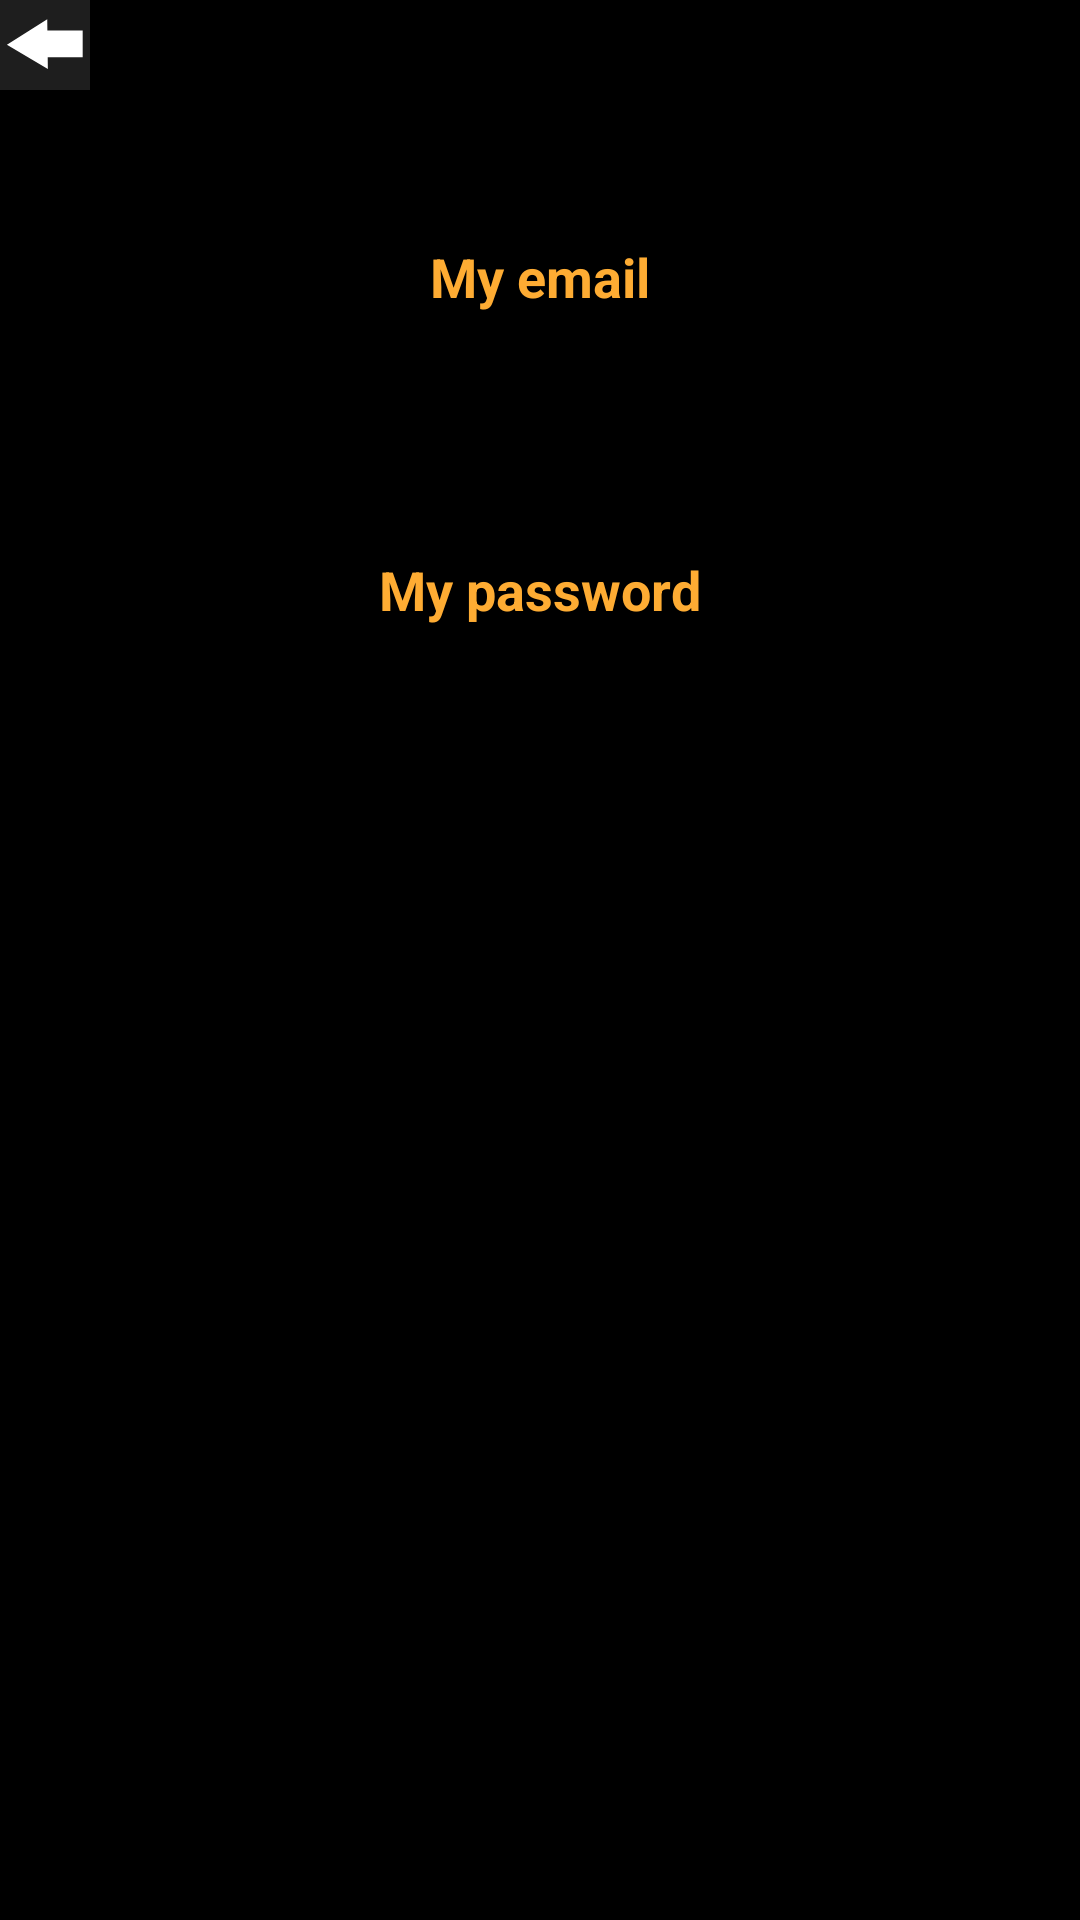

Icon bounding boxes for this 1080 × 1920 phone screenshot, format region(x1, y1, x2, y2):
back: region(0, 0, 90, 90)
